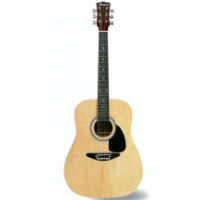guitar: (62, 2, 145, 198)
